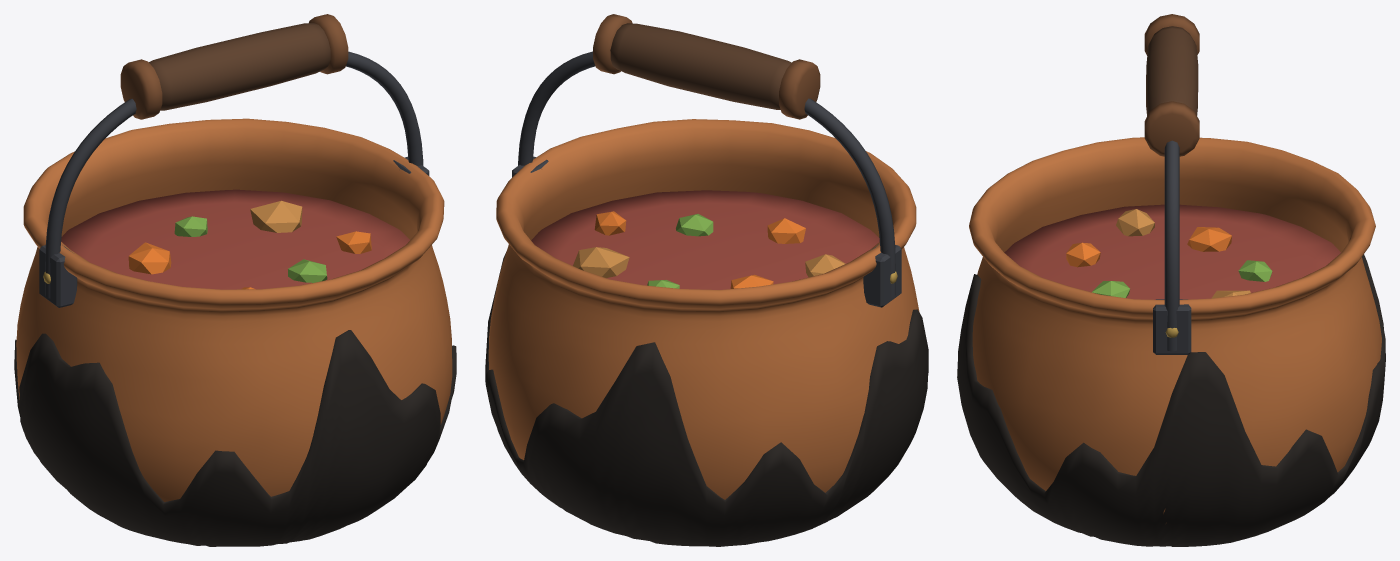
The model's file is tool_cookingpot.fbx.
The picture shows the model from 3 angles, left to right: view 1: azimuth 30°, elevation 25°; view 2: azimuth 150°, elevation 25°; view 3: azimuth 270°, elevation 25°; orthographic projection. The views are drawn at different scales.
Visible parts, largest first — view 1: Tool_CookingPot_Body, Tool_CookingPot_Soot, Tool_CookingPot_Stew, Tool_CookingPot_Grip, Tool_CookingPot_Bail; view 2: Tool_CookingPot_Body, Tool_CookingPot_Soot, Tool_CookingPot_Stew, Tool_CookingPot_Grip, Tool_CookingPot_Bail; view 3: Tool_CookingPot_Body, Tool_CookingPot_Soot, Tool_CookingPot_Stew, Tool_CookingPot_Grip, Tool_CookingPot_Bail.
Boxes of the visible parts, box(x1,y1,x2,y2) form: Tool_CookingPot_Body: box(16, 118, 452, 501); Tool_CookingPot_Soot: box(14, 330, 456, 546); Tool_CookingPot_Stew: box(61, 189, 409, 289); Tool_CookingPot_Grip: box(120, 14, 348, 119); Tool_CookingPot_Bail: box(39, 51, 429, 307); Tool_CookingPot_Body: box(488, 119, 919, 499); Tool_CookingPot_Soot: box(485, 252, 928, 546); Tool_CookingPot_Stew: box(531, 190, 879, 289); Tool_CookingPot_Grip: box(593, 14, 820, 119); Tool_CookingPot_Bail: box(512, 51, 901, 307); Tool_CookingPot_Body: box(969, 137, 1381, 523); Tool_CookingPot_Soot: box(957, 254, 1385, 546); Tool_CookingPot_Stew: box(1004, 204, 1340, 299); Tool_CookingPot_Grip: box(1144, 14, 1199, 156); Tool_CookingPot_Bail: box(1153, 140, 1191, 354).
Bounding box in the file's own units: 35.49 × 40.65 × 35.76.
